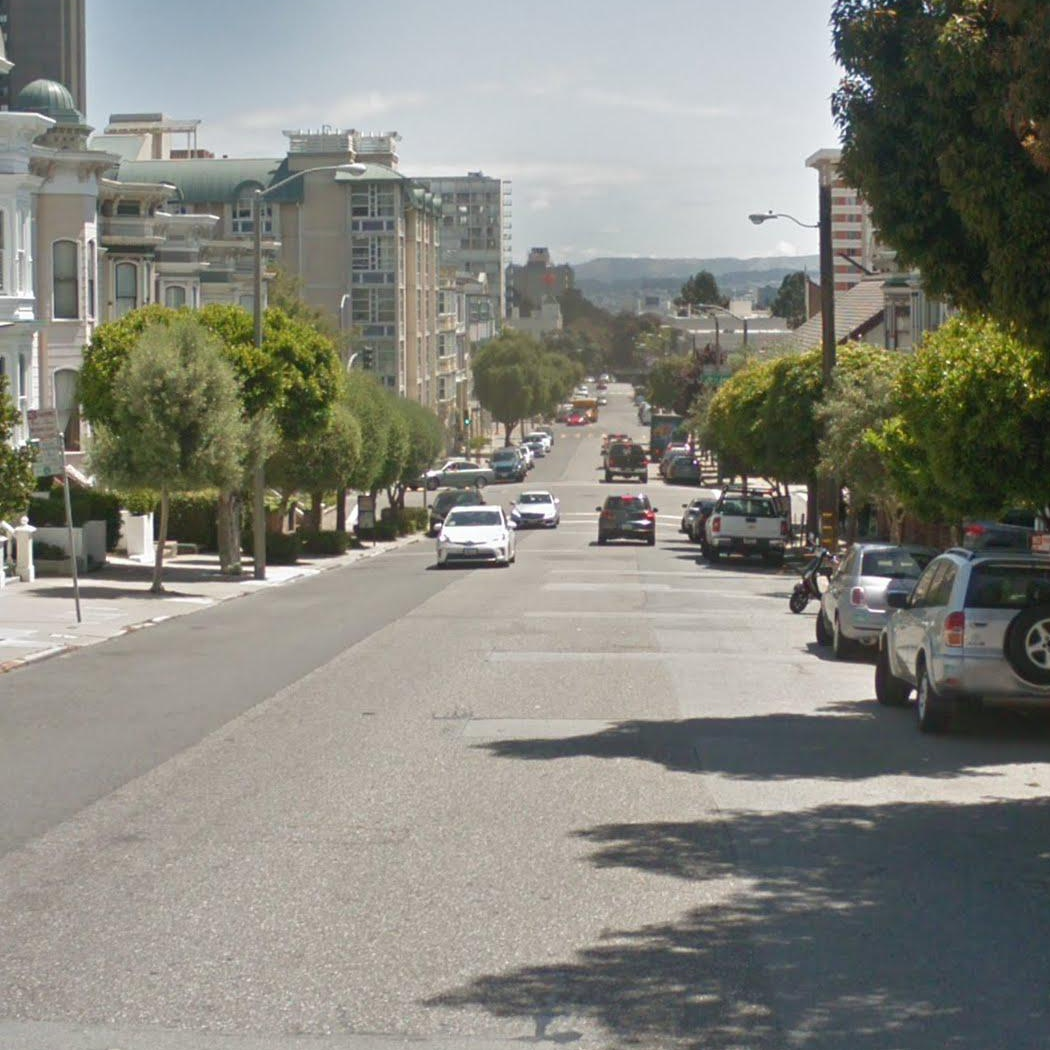2 Hour Parking: (29, 440, 64, 480)
No Parking: (26, 408, 59, 440)
